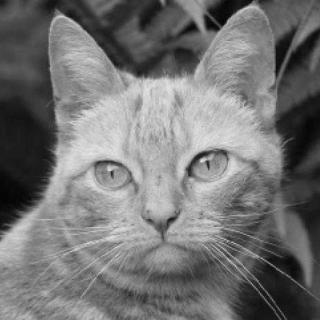cat: (44, 6, 280, 288)
nose: (136, 182, 193, 235)
